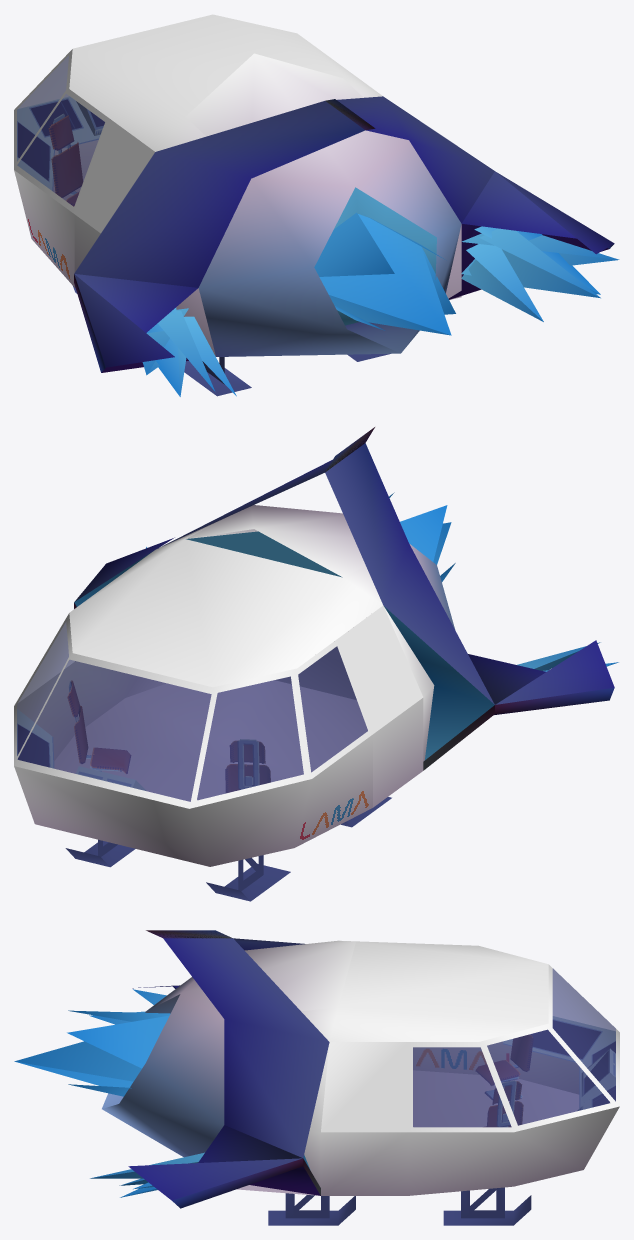
Rendered from spaceship.gltf.
3 views of the same model, one above another, from view 1: azimuth 30°, elevation 25°; view 2: azimuth 150°, elevation 25°; view 3: azimuth 270°, elevation 25° (orthographic). The views are drawn at different scales.
Visible parts, largest first — view 1: spaceship, flame, door, cockpit, seat_left, landing_gear_rear_left; view 2: spaceship, door, flame, seat_left, landing_gear_front_left, seat_right, cockpit, landing_gear_front_right; view 3: spaceship, flame, cockpit, landing_gear_front_right, landing_gear_rear_right, seat_left, seat_right, monitor.
Part boxes in pixels (left/top/right/bottom): spaceship: left=14, top=14, right=614, bottom=372; flame: left=142, top=212, right=619, bottom=396; door: left=74, top=119, right=154, bottom=287; cockpit: left=17, top=96, right=99, bottom=190; seat_left: left=49, top=114, right=82, bottom=206; landing_gear_rear_left: left=184, top=357, right=251, bottom=396; spaceship: left=14, top=427, right=614, bottom=866; door: left=338, top=605, right=423, bottom=807; flame: left=74, top=492, right=618, bottom=760; seat_left: left=225, top=739, right=270, bottom=792; landing_gear_front_left: left=206, top=855, right=290, bottom=901; seat_right: left=67, top=680, right=130, bottom=773; cockpit: left=17, top=709, right=53, bottom=768; landing_gear_front_right: left=65, top=839, right=135, bottom=867; spaceship: left=102, top=930, right=619, bottom=1208; flame: left=14, top=989, right=310, bottom=1197; cockpit: left=503, top=1016, right=615, bottom=1110; landing_gear_front_right: left=443, top=1187, right=531, bottom=1225; landing_gear_rear_right: left=268, top=1193, right=355, bottom=1225; seat_left: left=476, top=1035, right=533, bottom=1099; seat_right: left=486, top=1080, right=523, bottom=1126; monitor: left=582, top=1049, right=615, bottom=1102.
Size of the model in its own units: 7.25 by 4.06 by 8.64.
Materials: 3 (3 with a texture image).
